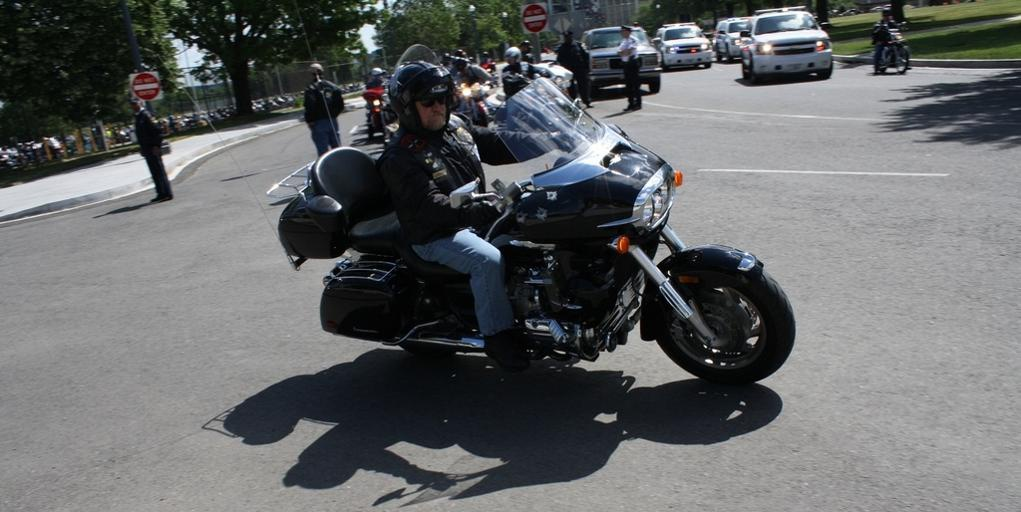non-vehicle: (265, 76, 794, 387), (865, 19, 911, 74)
